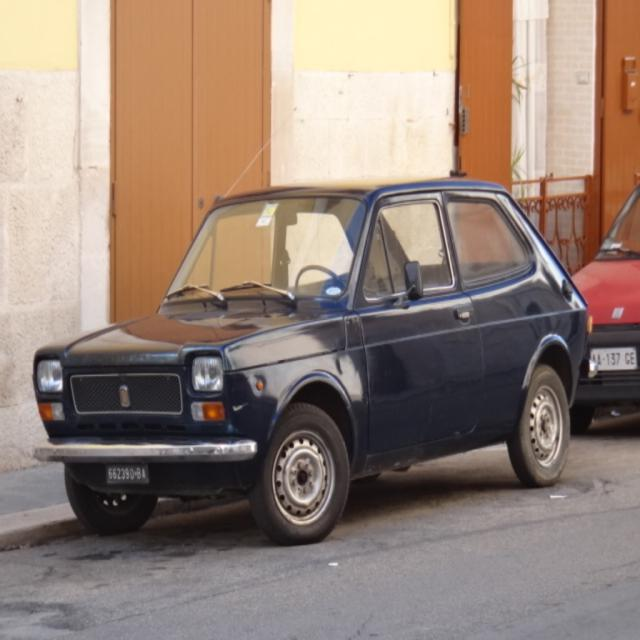car: (20, 164, 616, 549)
